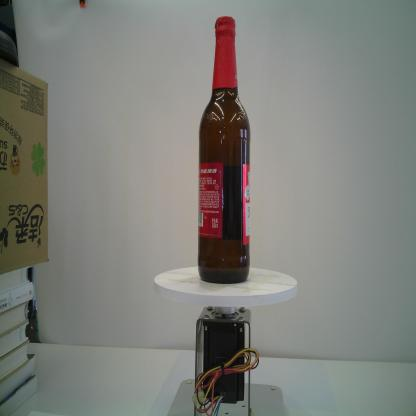Alcohol: (197, 14, 251, 284)
